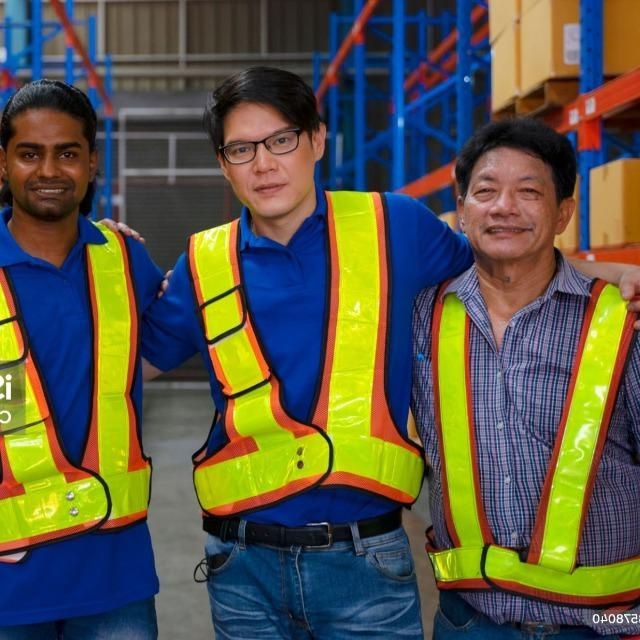Con_Chaleco: (415, 270, 640, 601), (184, 192, 416, 510), (0, 209, 149, 556)
Sin_Casco_Mascarrilla: (201, 67, 327, 216), (448, 120, 580, 262), (0, 75, 102, 218)
